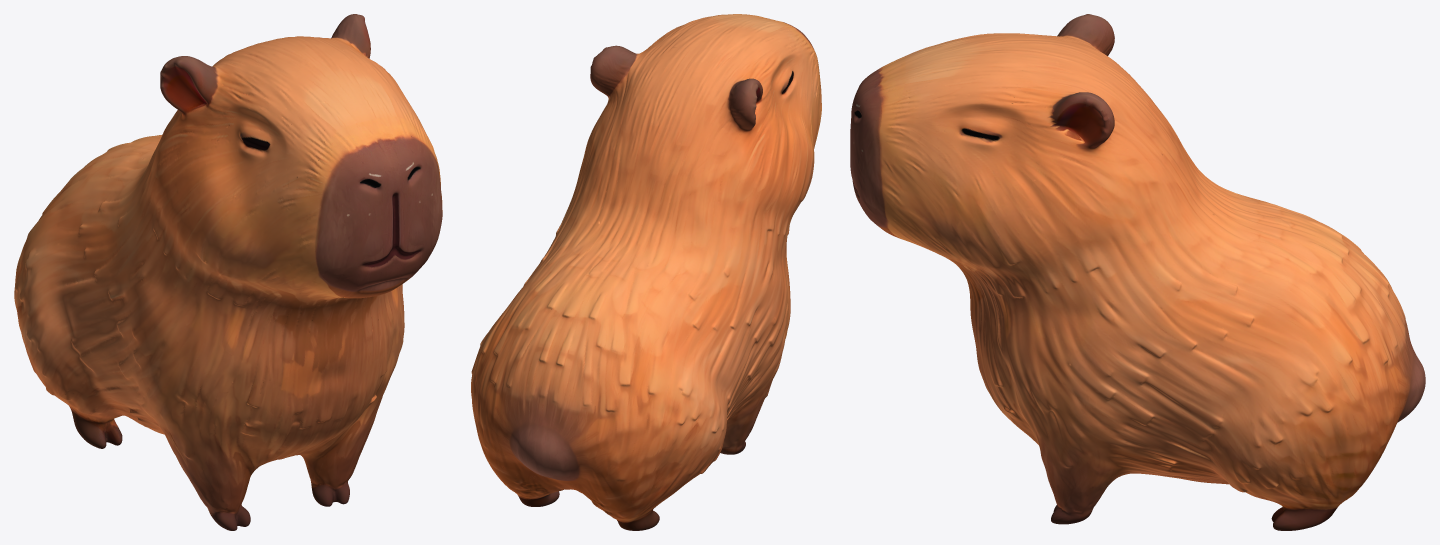
File: Meshy_AI_Sunny_Fluffbear_1103224035_texture.glb
3 renders of one model, left to right at view 1: azimuth 30°, elevation 25°; view 2: azimuth 150°, elevation 25°; view 3: azimuth 270°, elevation 25°, orthographic. The views are drawn at different scales.
Size of the model in its own units: 1.03 by 1.65 by 1.9.
Materials: 1 (1 with a texture image).
